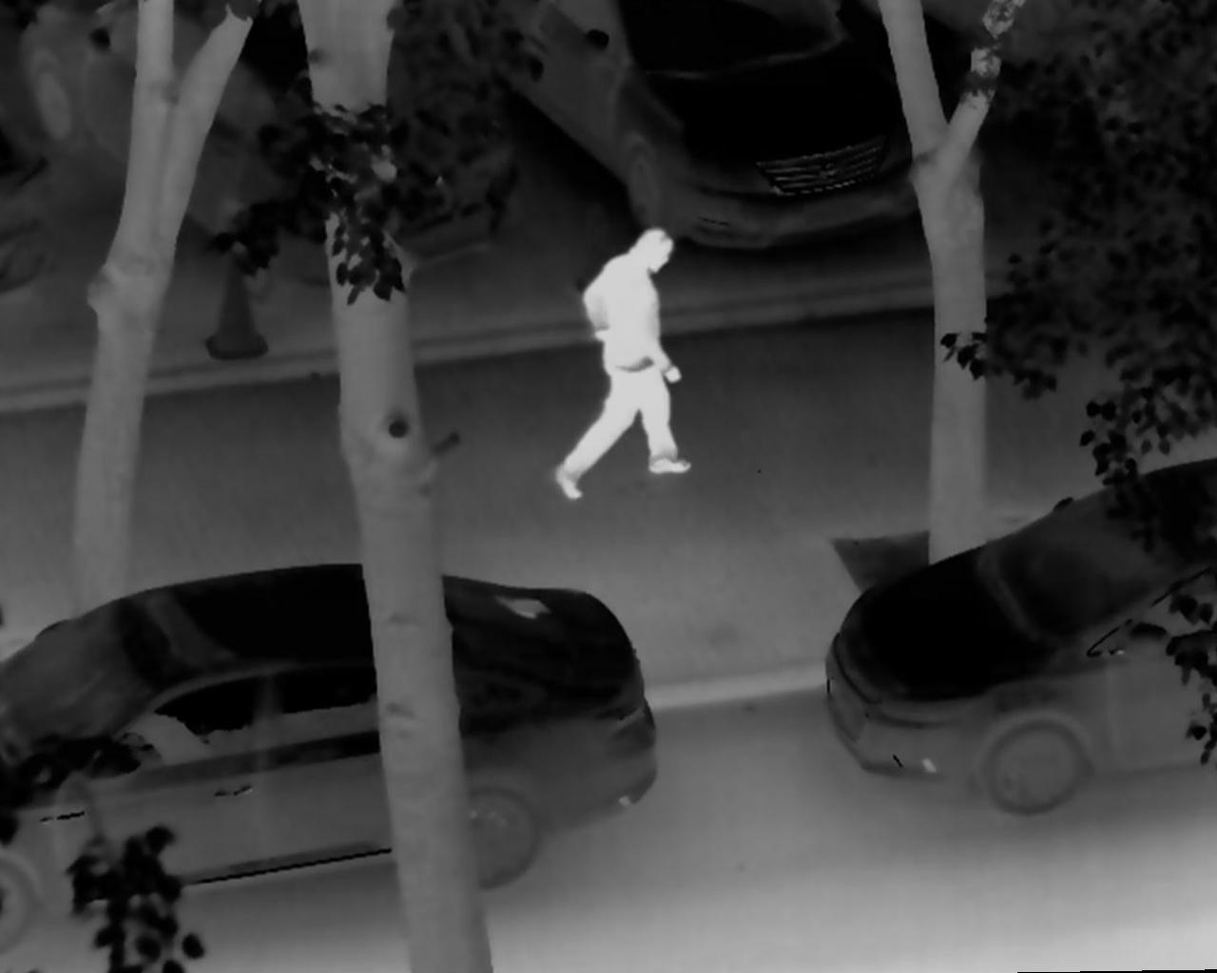person: (535, 230, 704, 507)
